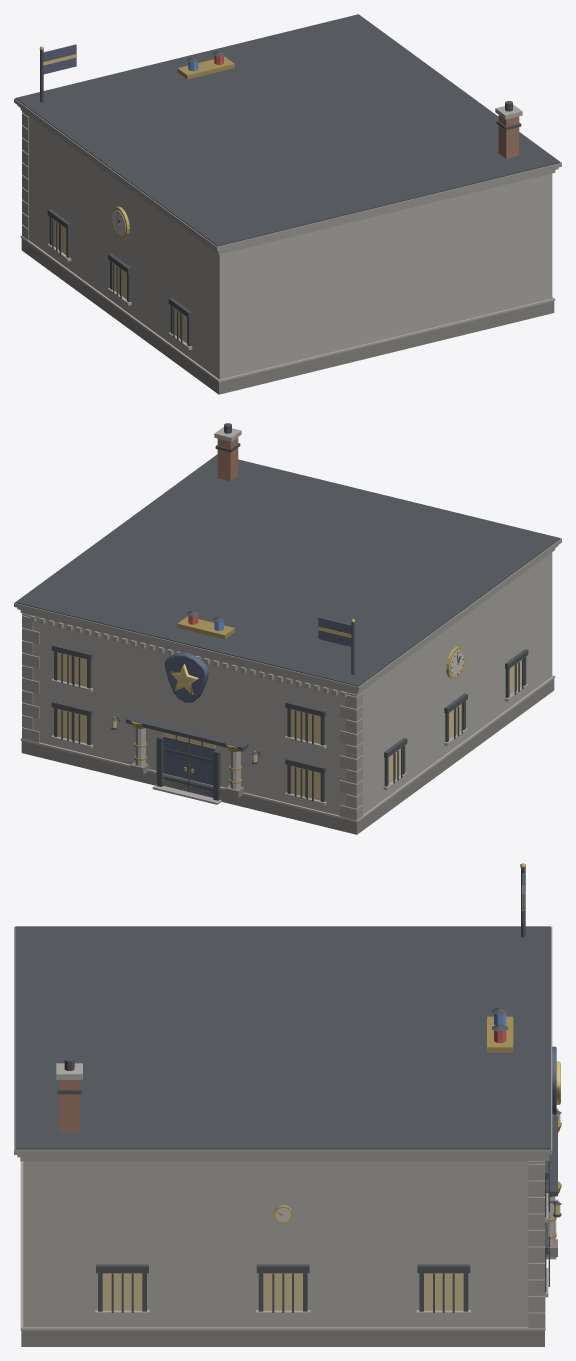
File: centro-delegacia-a3aebab8.glb
3 renders of one model, top to bottom at view 1: azimuth 30°, elevation 25°; view 2: azimuth 150°, elevation 25°; view 3: azimuth 270°, elevation 25°, orthographic. The views are drawn at different scales.
Visible parts, largest first — view 1: centro_delegacia_body, centro_delegacia_wall, centro_delegacia_lamp; view 2: centro_delegacia_body, centro_delegacia_wall, centro_delegacia_lamp, centro_delegacia_glow; view 3: centro_delegacia_body, centro_delegacia_wall, centro_delegacia_lamp.
Part boxes in pixels (left/top/right/bottom): centro_delegacia_body: left=14, top=14, right=561, bottom=382; centro_delegacia_wall: left=21, top=115, right=554, bottom=394; centro_delegacia_lamp: left=53, top=55, right=223, bottom=343; centro_delegacia_body: left=14, top=423, right=561, bottom=822; centro_delegacia_wall: left=21, top=437, right=554, bottom=834; centro_delegacia_lamp: left=57, top=615, right=522, bottom=800; centro_delegacia_glow: left=165, top=652, right=208, bottom=702; centro_delegacia_body: left=14, top=863, right=561, bottom=1330; centro_delegacia_wall: left=21, top=1080, right=544, bottom=1346; centro_delegacia_lamp: left=102, top=1014, right=560, bottom=1310.
Bounding box in the file's own units: 15.96 × 9.15 × 16.55.
